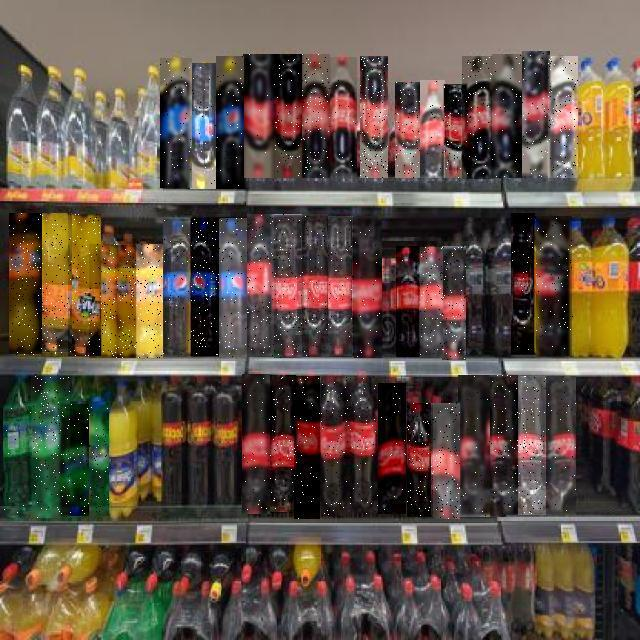Drinks: (33, 376, 70, 518), (4, 374, 40, 518), (538, 216, 574, 356), (68, 215, 101, 357), (39, 214, 72, 356), (9, 214, 42, 356), (458, 375, 490, 517), (348, 375, 380, 515), (546, 376, 576, 515), (160, 58, 192, 188), (275, 214, 303, 358), (190, 218, 219, 356), (355, 216, 383, 358), (248, 215, 276, 357), (491, 375, 519, 517), (322, 376, 350, 516), (242, 375, 270, 515), (328, 216, 356, 356), (219, 218, 247, 357), (163, 218, 191, 357), (519, 376, 547, 515), (243, 54, 274, 178), (462, 56, 493, 179), (512, 214, 538, 358), (216, 56, 244, 189), (492, 54, 522, 178), (272, 54, 302, 178), (295, 376, 321, 519), (303, 214, 329, 357), (379, 383, 407, 514), (548, 56, 578, 178), (270, 376, 296, 516), (301, 54, 330, 178), (522, 52, 550, 178), (361, 56, 389, 178), (329, 58, 357, 178), (190, 63, 216, 189), (60, 404, 89, 516), (135, 244, 163, 358), (89, 244, 117, 358), (408, 403, 436, 517), (435, 403, 461, 519), (442, 246, 466, 360), (420, 247, 443, 358), (396, 246, 419, 357), (420, 80, 445, 178), (395, 82, 420, 178), (89, 402, 109, 516), (116, 245, 136, 358), (444, 85, 467, 179)
